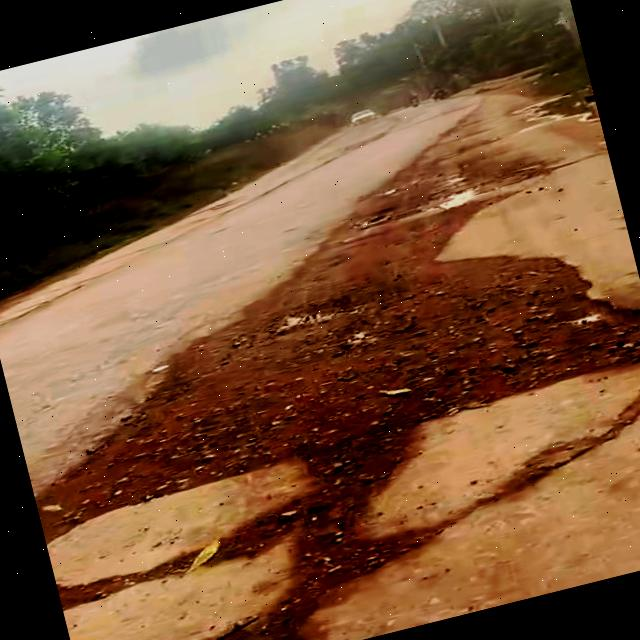pothole: (42, 413, 541, 640)
